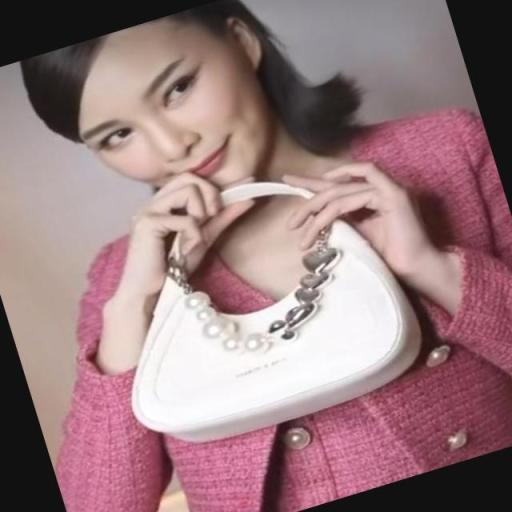bag: (122, 204, 436, 442)
